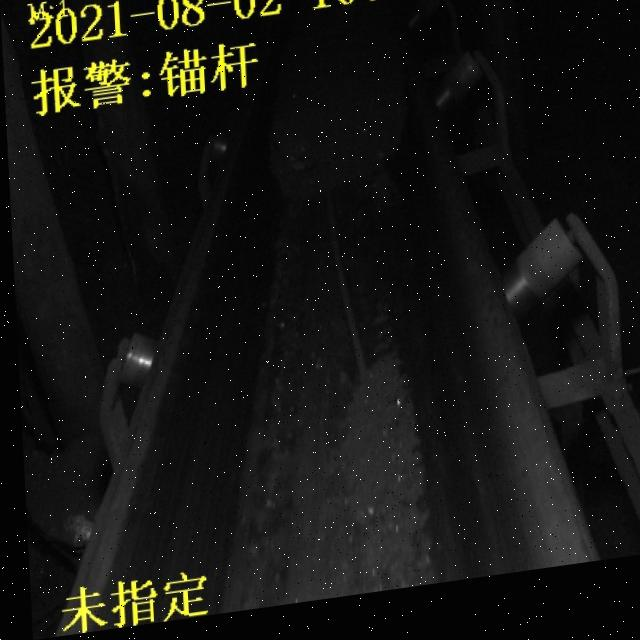large_sized_coal: (319, 208, 370, 399)
